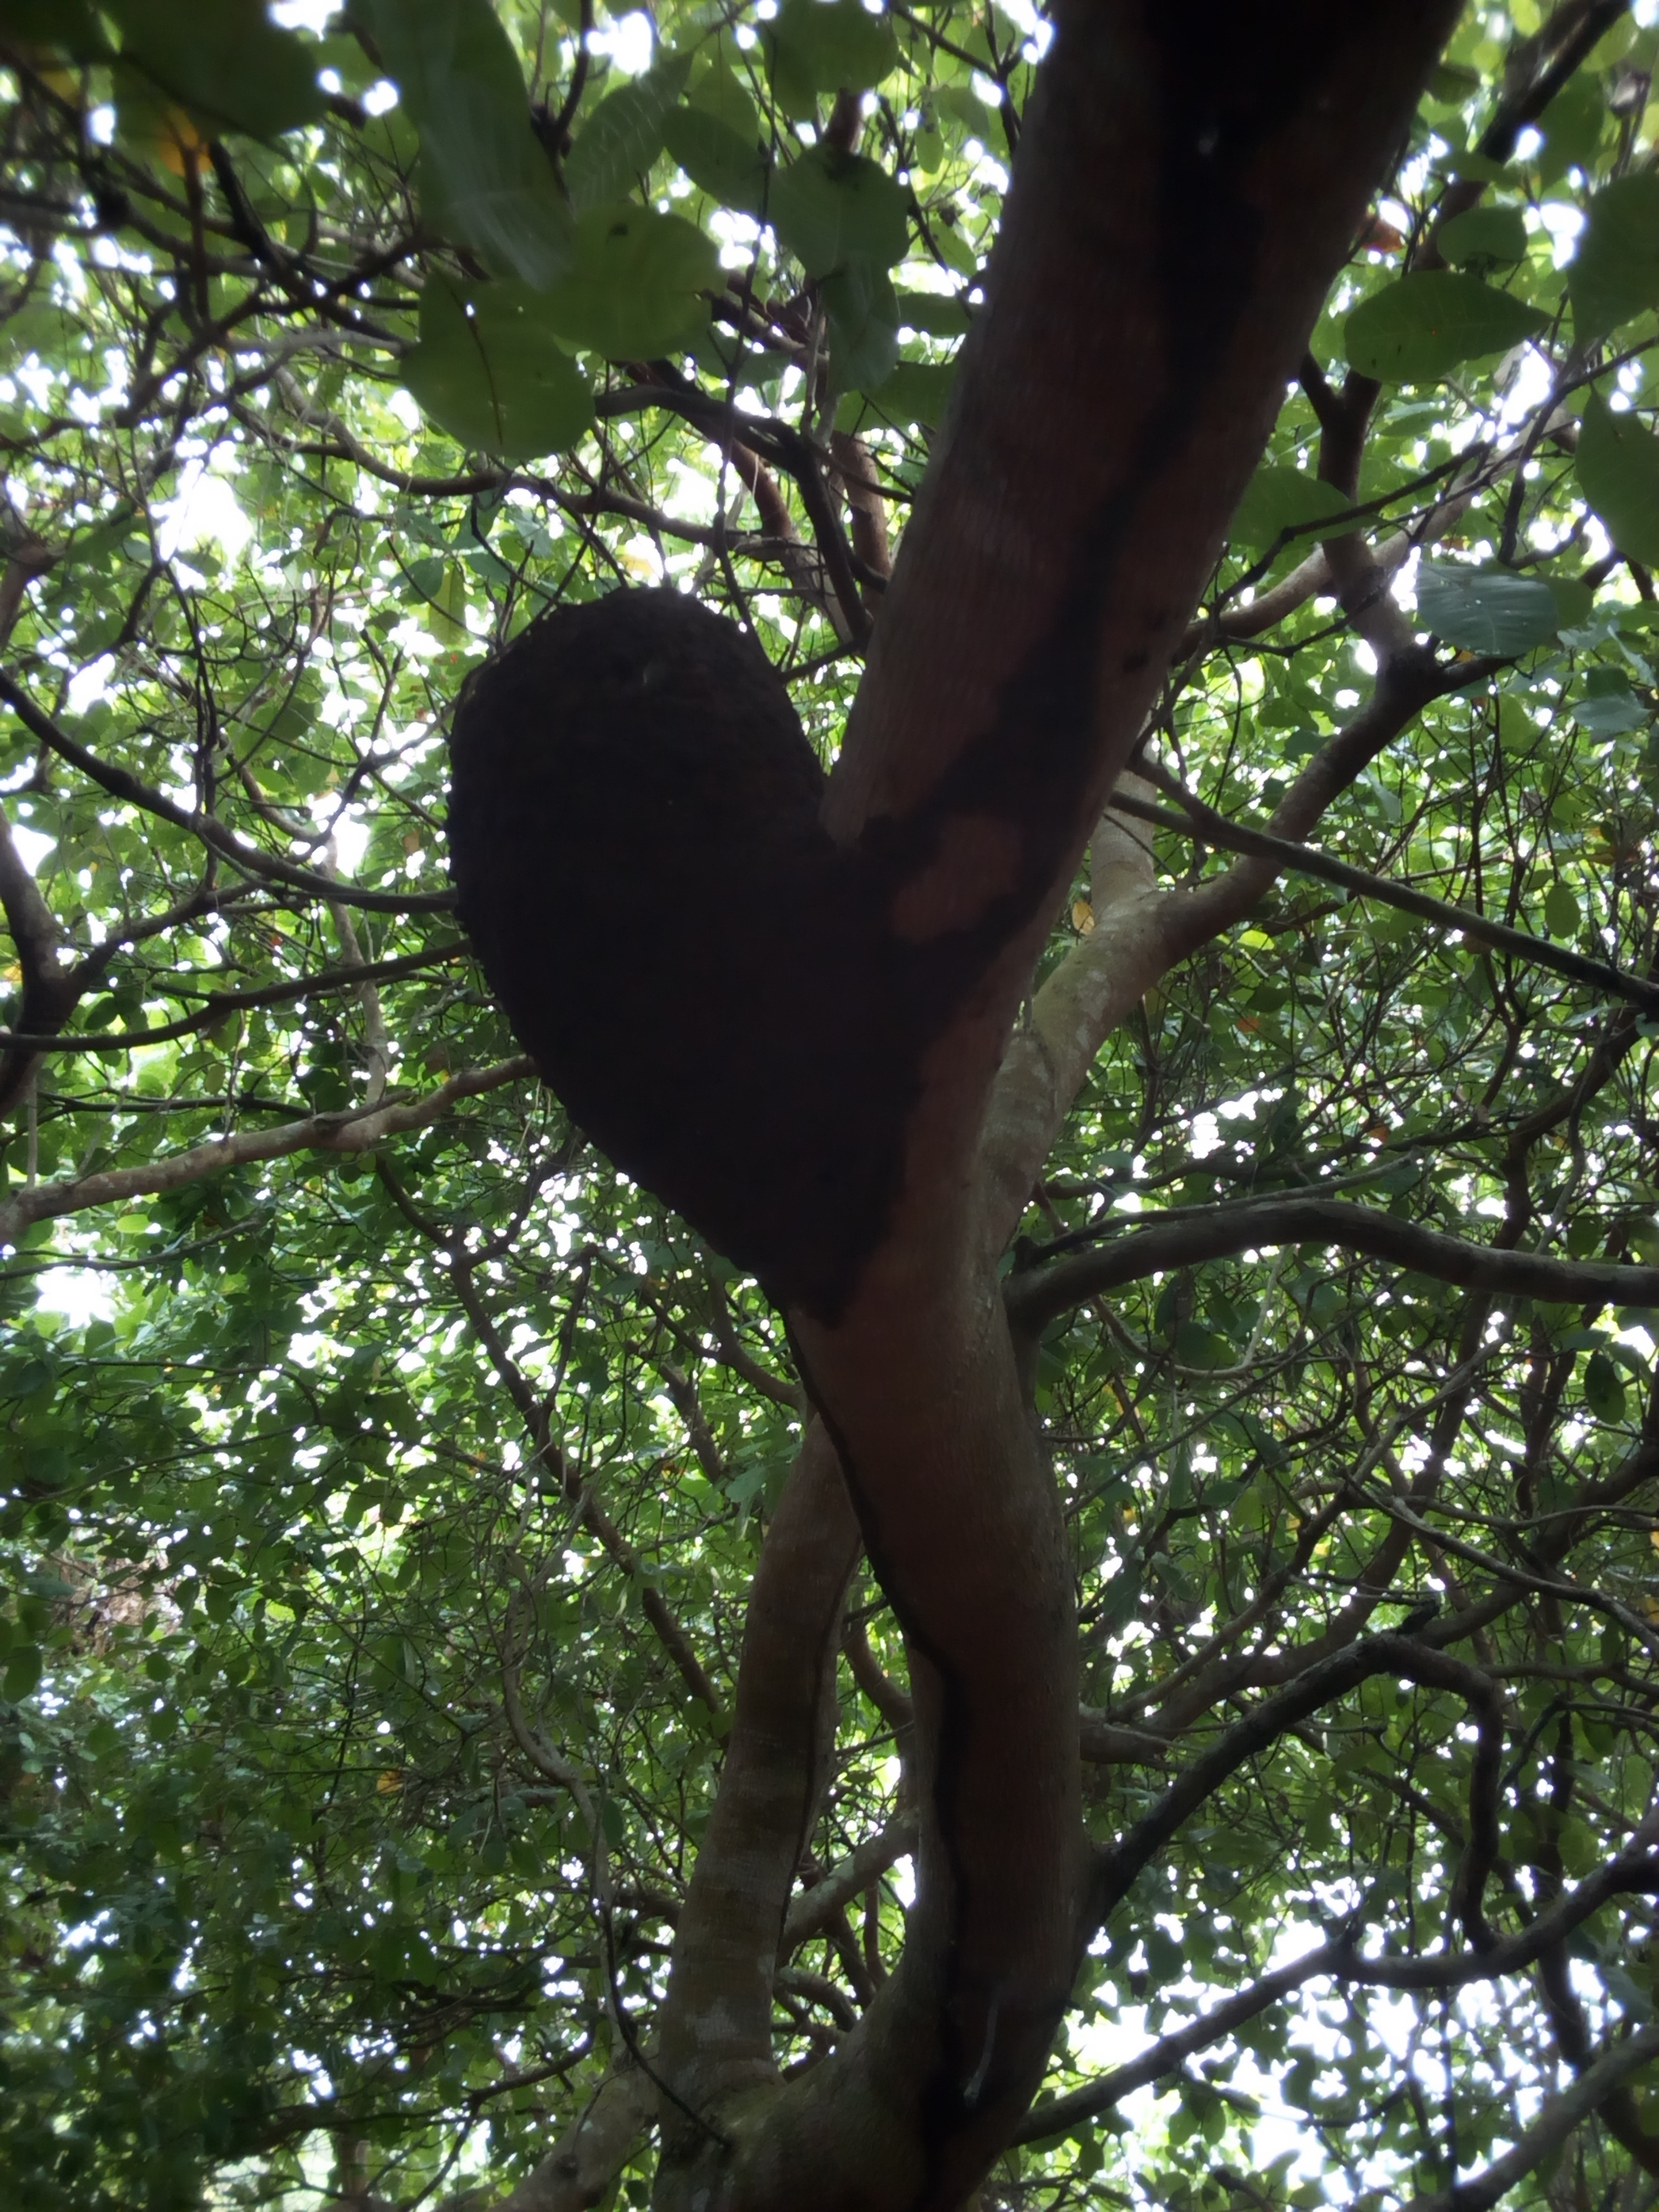Termites: (460, 575, 1077, 1310), (901, 1414, 985, 2207)
